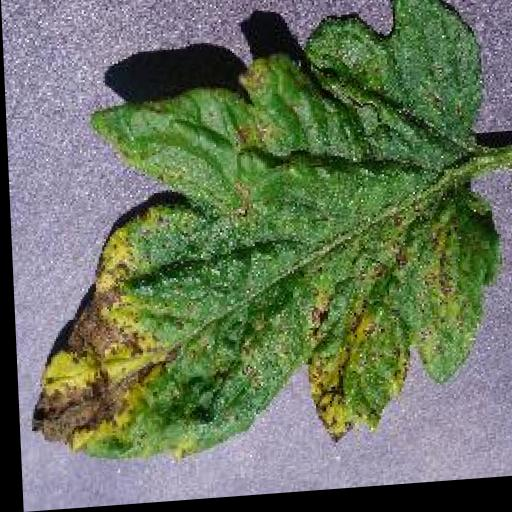Septoria: (10, 0, 499, 471)
